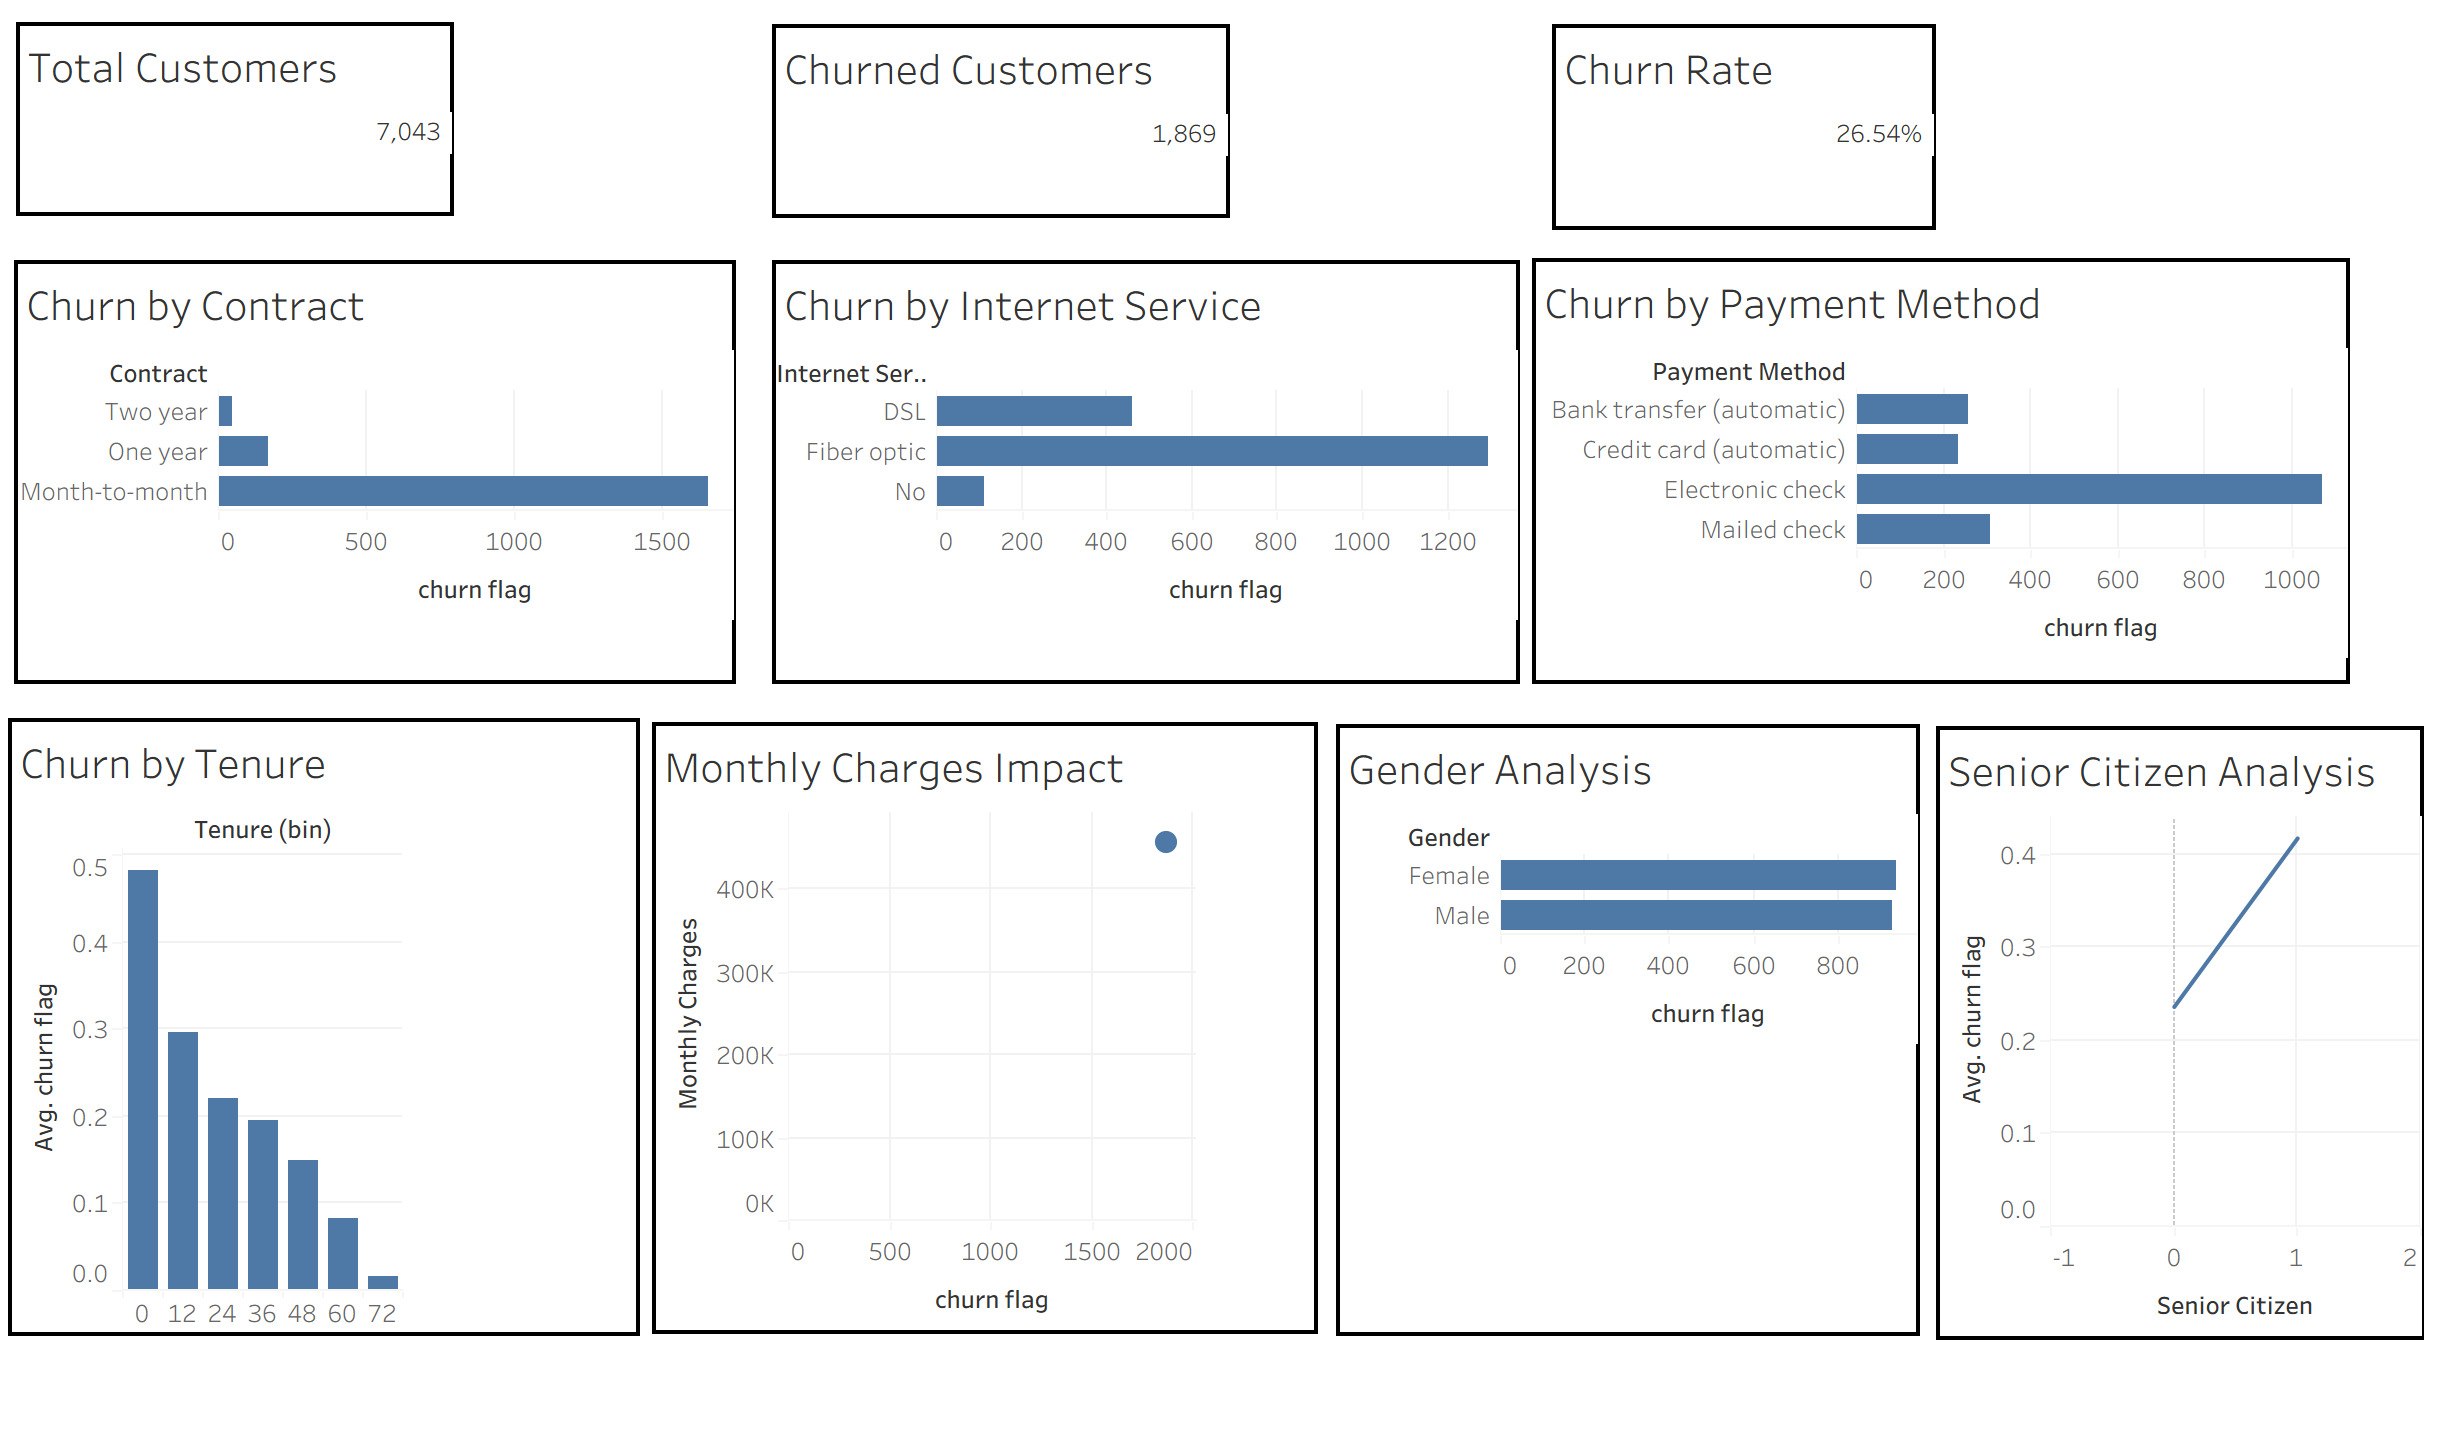

What the dashboard file says about the page in this screenshot:
{"tool":"tableau","page":{"name":"Dashboard 1","canvas":[1000,1000],"units":"permille","ordinal":0},"visuals":[{"type":"worksheet","title":"Total Customers","mark":"Automatic","box":[6.5,15.4,178.2,135.5]},{"type":"worksheet","title":"Churned Customers","mark":"Automatic","box":[314.1,16.8,186.3,135.5]},{"type":"worksheet","title":"Churn Rate","mark":"Automatic","box":[631.4,16.8,156.2,143.8]},{"type":"worksheet","title":"Churn by Payment Method","mark":"Automatic","rows":["PaymentMethod"],"cols":["Calculation_1473360178950145"],"box":[623.3,180.2,332.8,297.5]},{"type":"worksheet","title":"Churn by Contract","mark":"Automatic","rows":["Contract"],"cols":["Calculation_1473360178950145"],"box":[5.7,181.6,293.7,296.1]},{"type":"worksheet","title":"Churn by Internet Service","mark":"Automatic","rows":["InternetService"],"cols":["Calculation_1473360178950145"],"box":[314.1,181.6,304.3,296.1]},{"type":"worksheet","title":"Churn by Tenure","mark":"Automatic","rows":["Calculation_1473360178950145"],"cols":["Tenure (bin)"],"box":[3.2,501.4,257.1,431.6]},{"type":"worksheet","title":"Monthly Charges Impact","mark":"Circle","rows":["MonthlyCharges"],"cols":["Calculation_1473360178950145"],"box":[265.3,504.2,270.9,427.4]},{"type":"worksheet","title":"Gender Analysis","mark":"Automatic","rows":["gender"],"cols":["Calculation_1473360178950145"],"box":[543.5,505.6,237.6,427.4]},{"type":"worksheet","title":"Senior Citizen Analysis","mark":"Automatic","rows":["Calculation_1473360178950145"],"cols":["SeniorCitizen"],"box":[787.6,507,198.5,428.8]}]}

Visuals, with their boxes on the dashboard's canvas, which has no fixed pixel size, in thousandths of its width and height (x1, y1, x2, y2). These are canvas units, not pixel positions in the 2458x1432 screenshot, which may show the page scaled, cropped or inside an application window:
"Total Customers" worksheet: bbox=[6, 15, 185, 151]
"Churned Customers" worksheet: bbox=[314, 17, 500, 152]
"Churn Rate" worksheet: bbox=[631, 17, 788, 161]
"Churn by Payment Method" worksheet: bbox=[623, 180, 956, 478]
"Churn by Contract" worksheet: bbox=[6, 182, 299, 478]
"Churn by Internet Service" worksheet: bbox=[314, 182, 618, 478]
"Churn by Tenure" worksheet: bbox=[3, 501, 260, 933]
"Monthly Charges Impact" worksheet (Circle marks): bbox=[265, 504, 536, 932]
"Gender Analysis" worksheet: bbox=[544, 506, 781, 933]
"Senior Citizen Analysis" worksheet: bbox=[788, 507, 986, 936]
